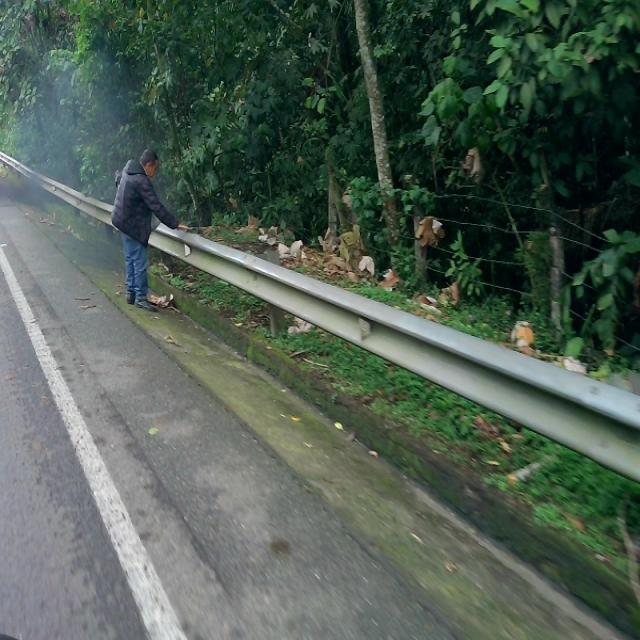DITCH: (2, 152, 637, 638), (1, 259, 622, 638)
